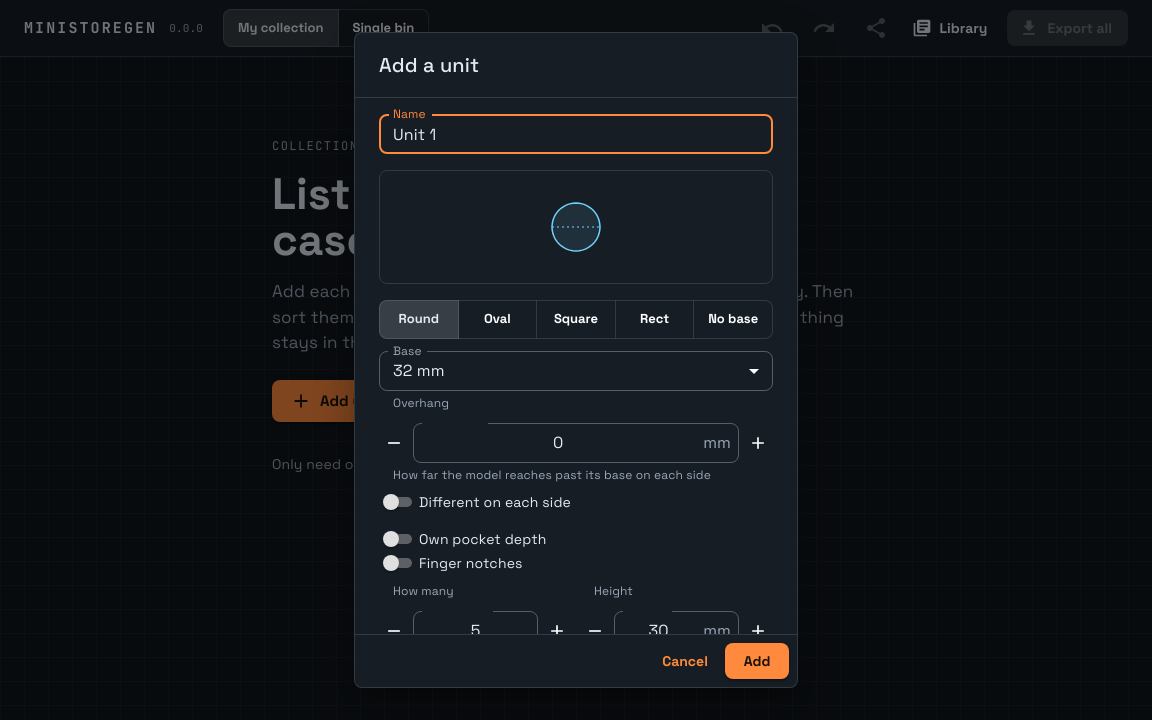
Test case: units wait on the shelf until they are sorted into cases
Earlier steps of the test are not shown.
Replace the text in the field labelled "Name" with "Intercessors": (576, 134) [379,114,773,154]
Replace the text in the number field labelled "How many" with "6": (476, 631) [413,611,538,651]
Click the button "Add": (757, 661) [725,642,789,679]
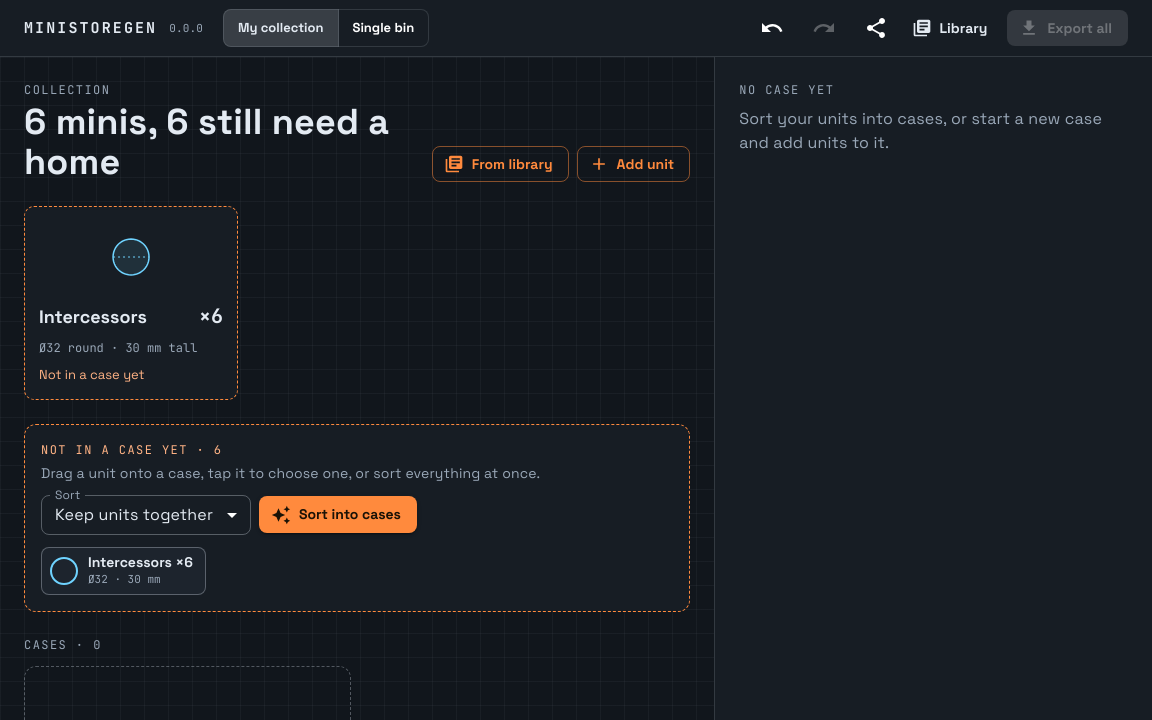
Click the button "Add unit": (633, 164) [577,146,690,182]
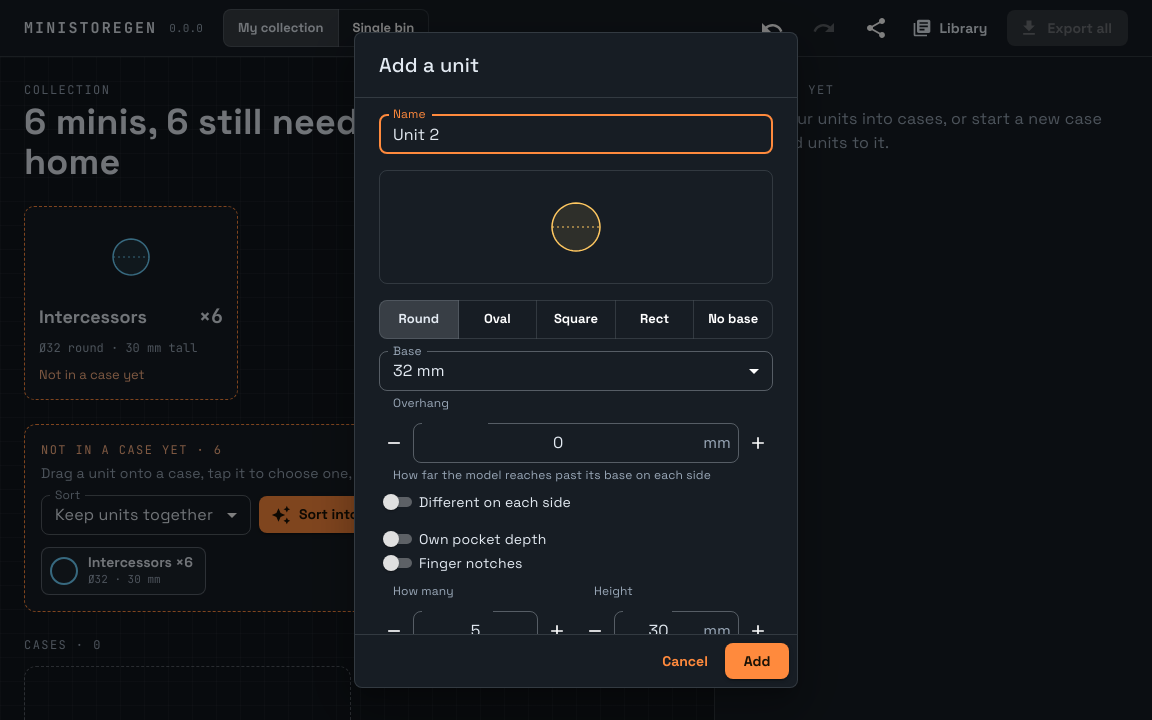
Replace the text in the field labelled "Name" with "Assault squad": (576, 134) [379,114,773,154]
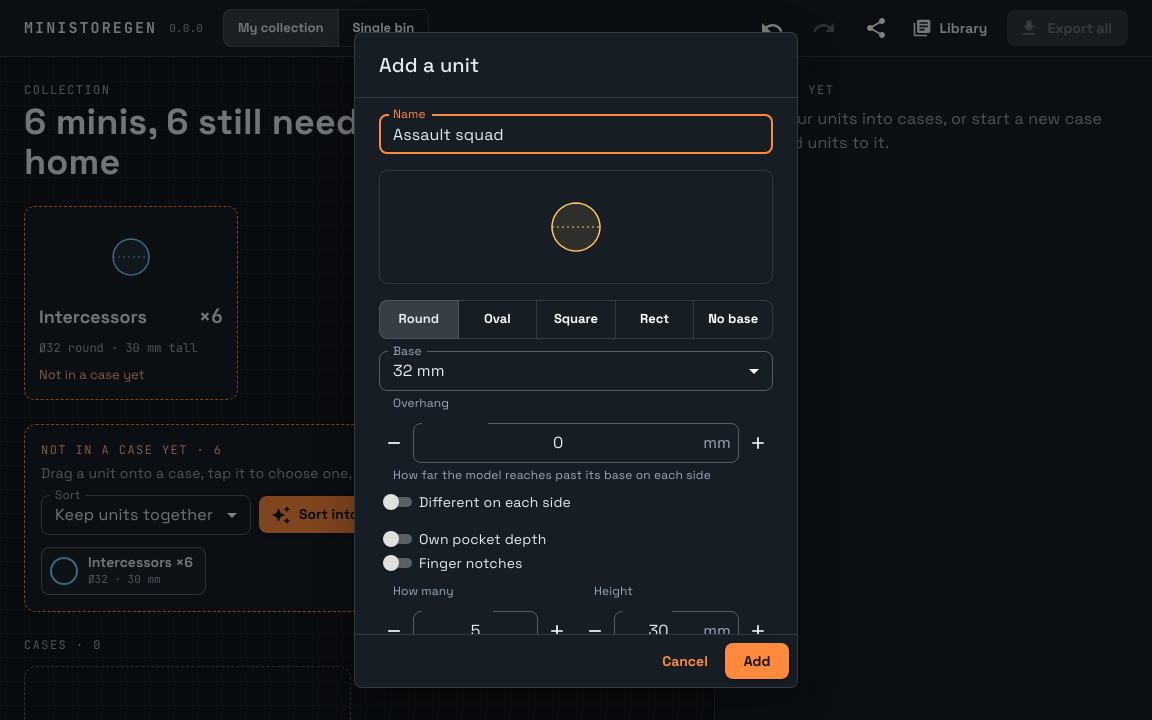
Replace the text in the number field labelled "How many" with "4": (476, 631) [413,611,538,651]
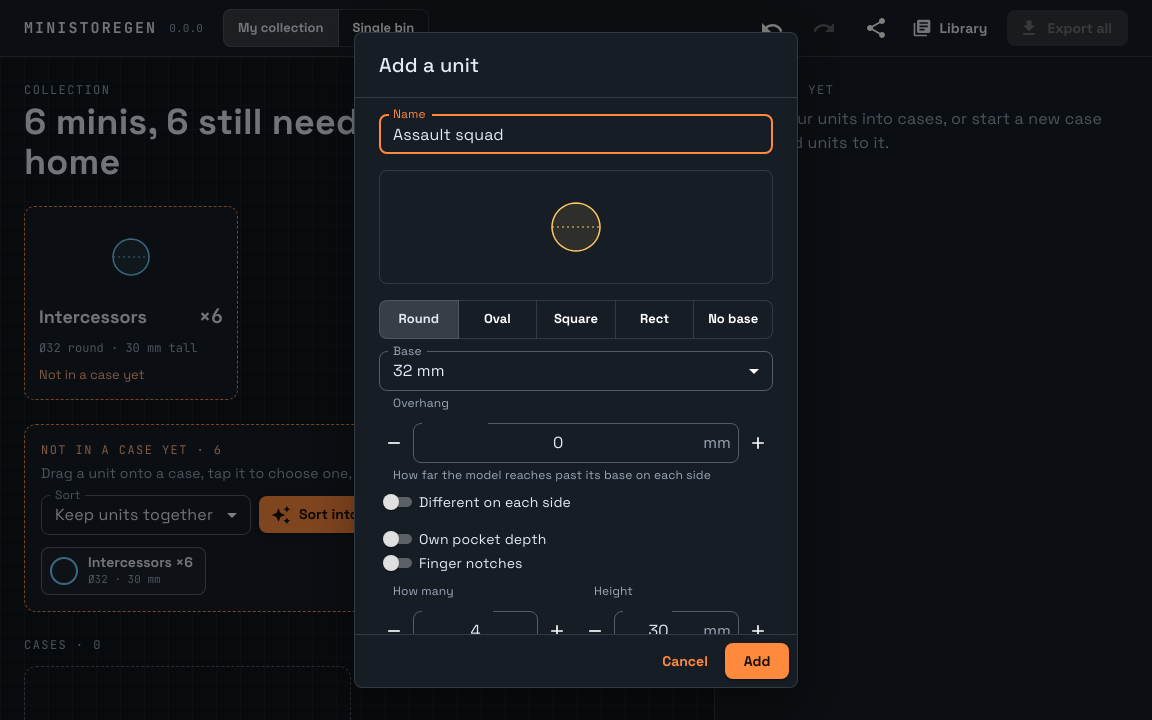
Click the button "Add": (757, 661) [725,642,789,679]
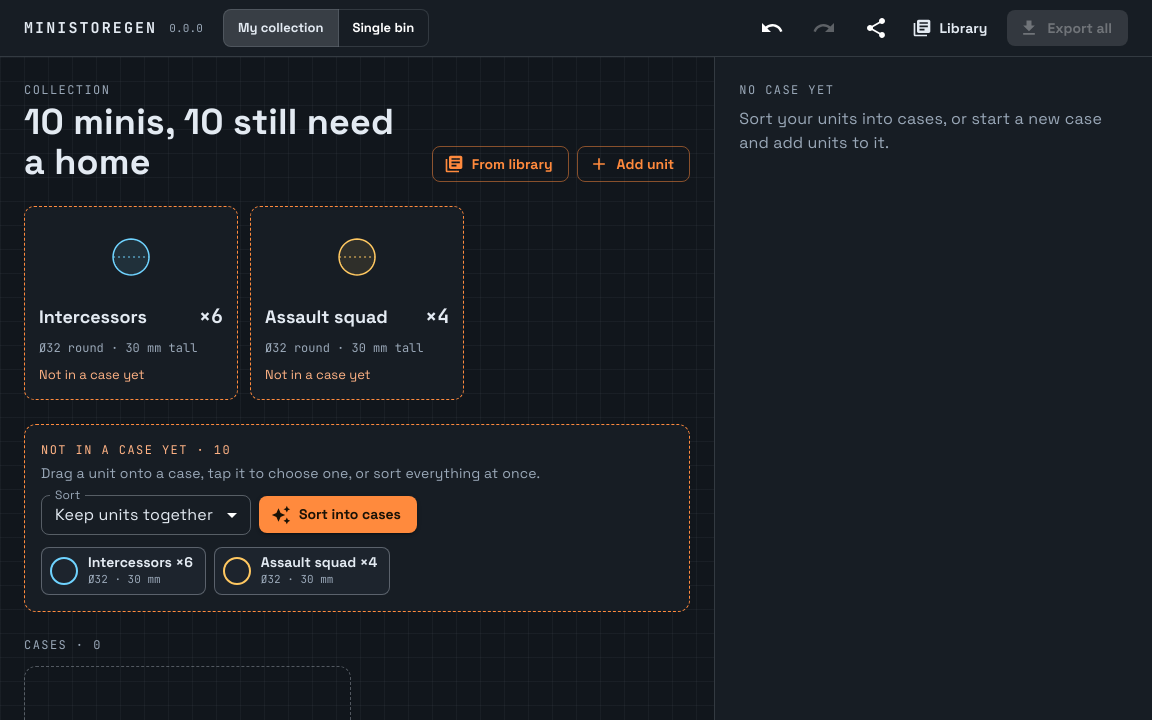
Now the heading with test id "collection-summary" reads "10 minis, 10 still need a home", box [24,99,394,185]
Click the button "Sort into cases": (338, 515) [259,496,417,533]
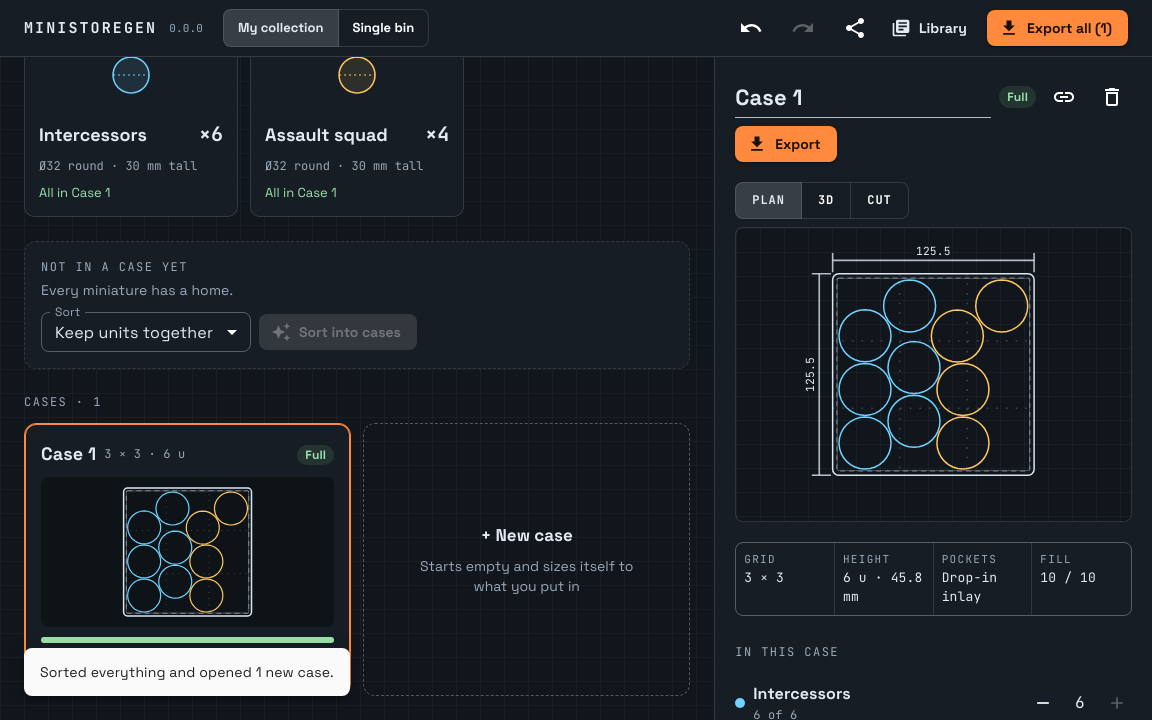
Now the text "Every miniature has a home." is shown, box [41,281,233,299]
Now the button with aria-label "Case 1: " is shown, box [24,423,351,696]
